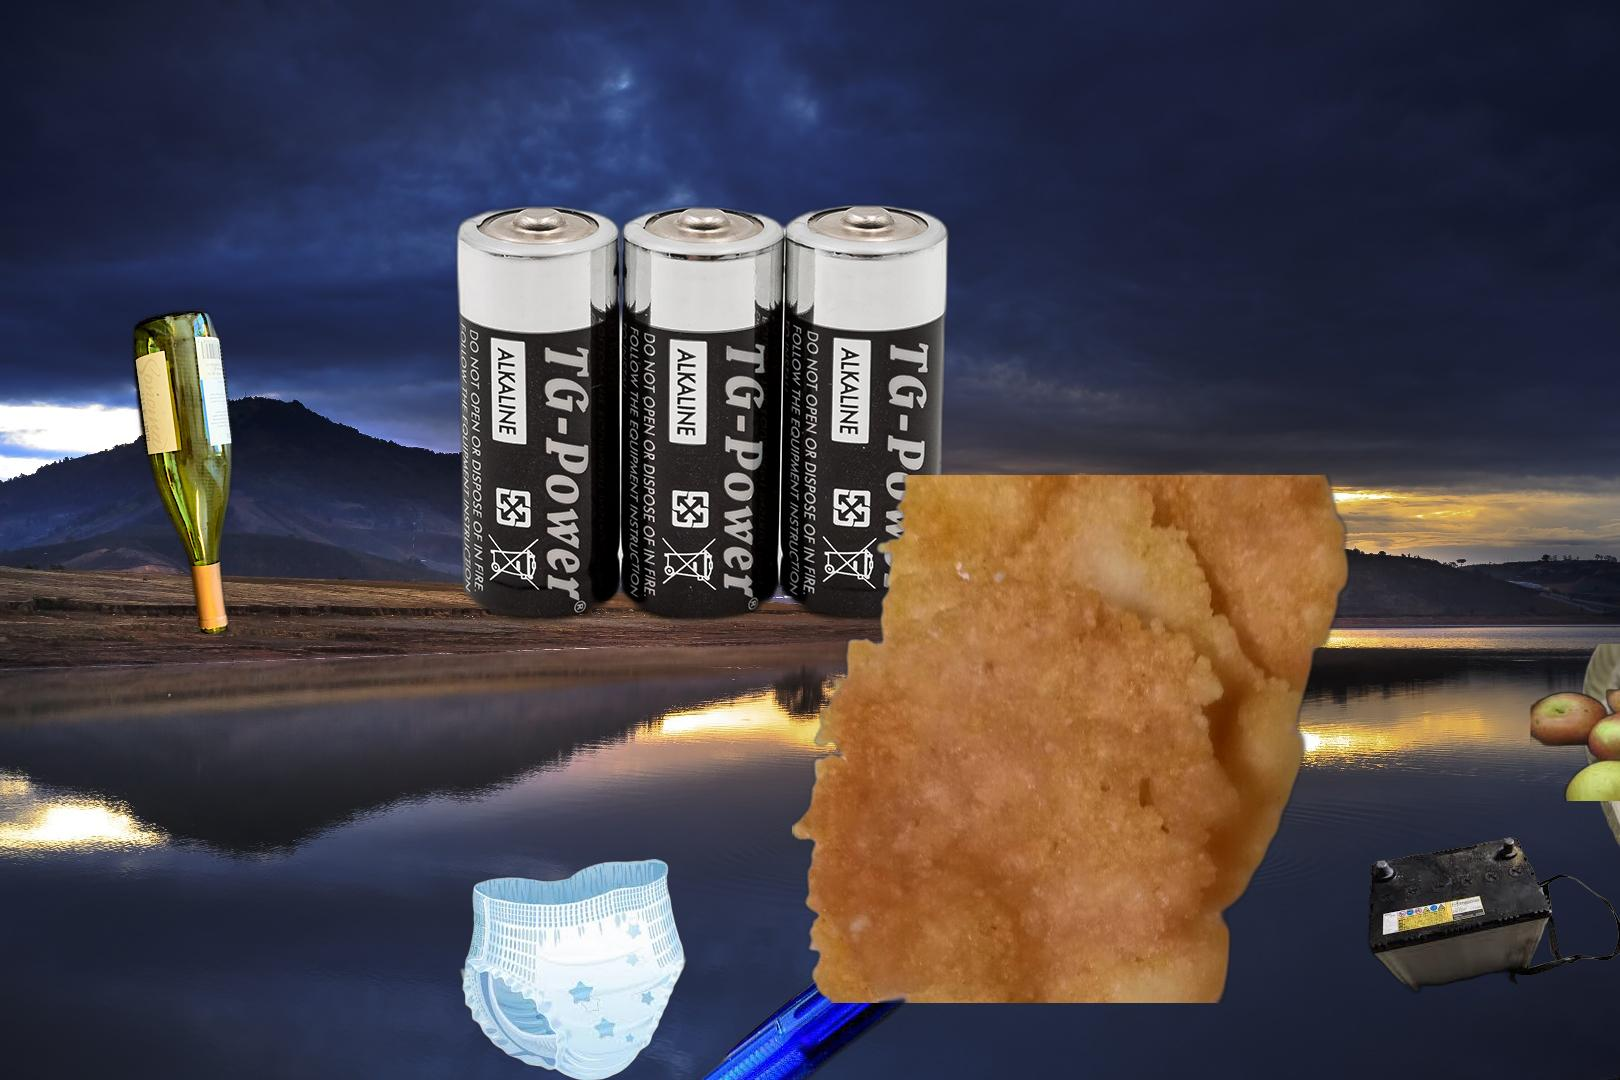battery: (449, 198, 955, 629), (1365, 833, 1620, 996)
biological: (792, 475, 1452, 1003), (1530, 655, 1620, 801)
glass: (129, 304, 237, 642), (1576, 644, 1620, 1023)
penholder: (412, 910, 1104, 1080)
trash: (460, 859, 688, 1080)
